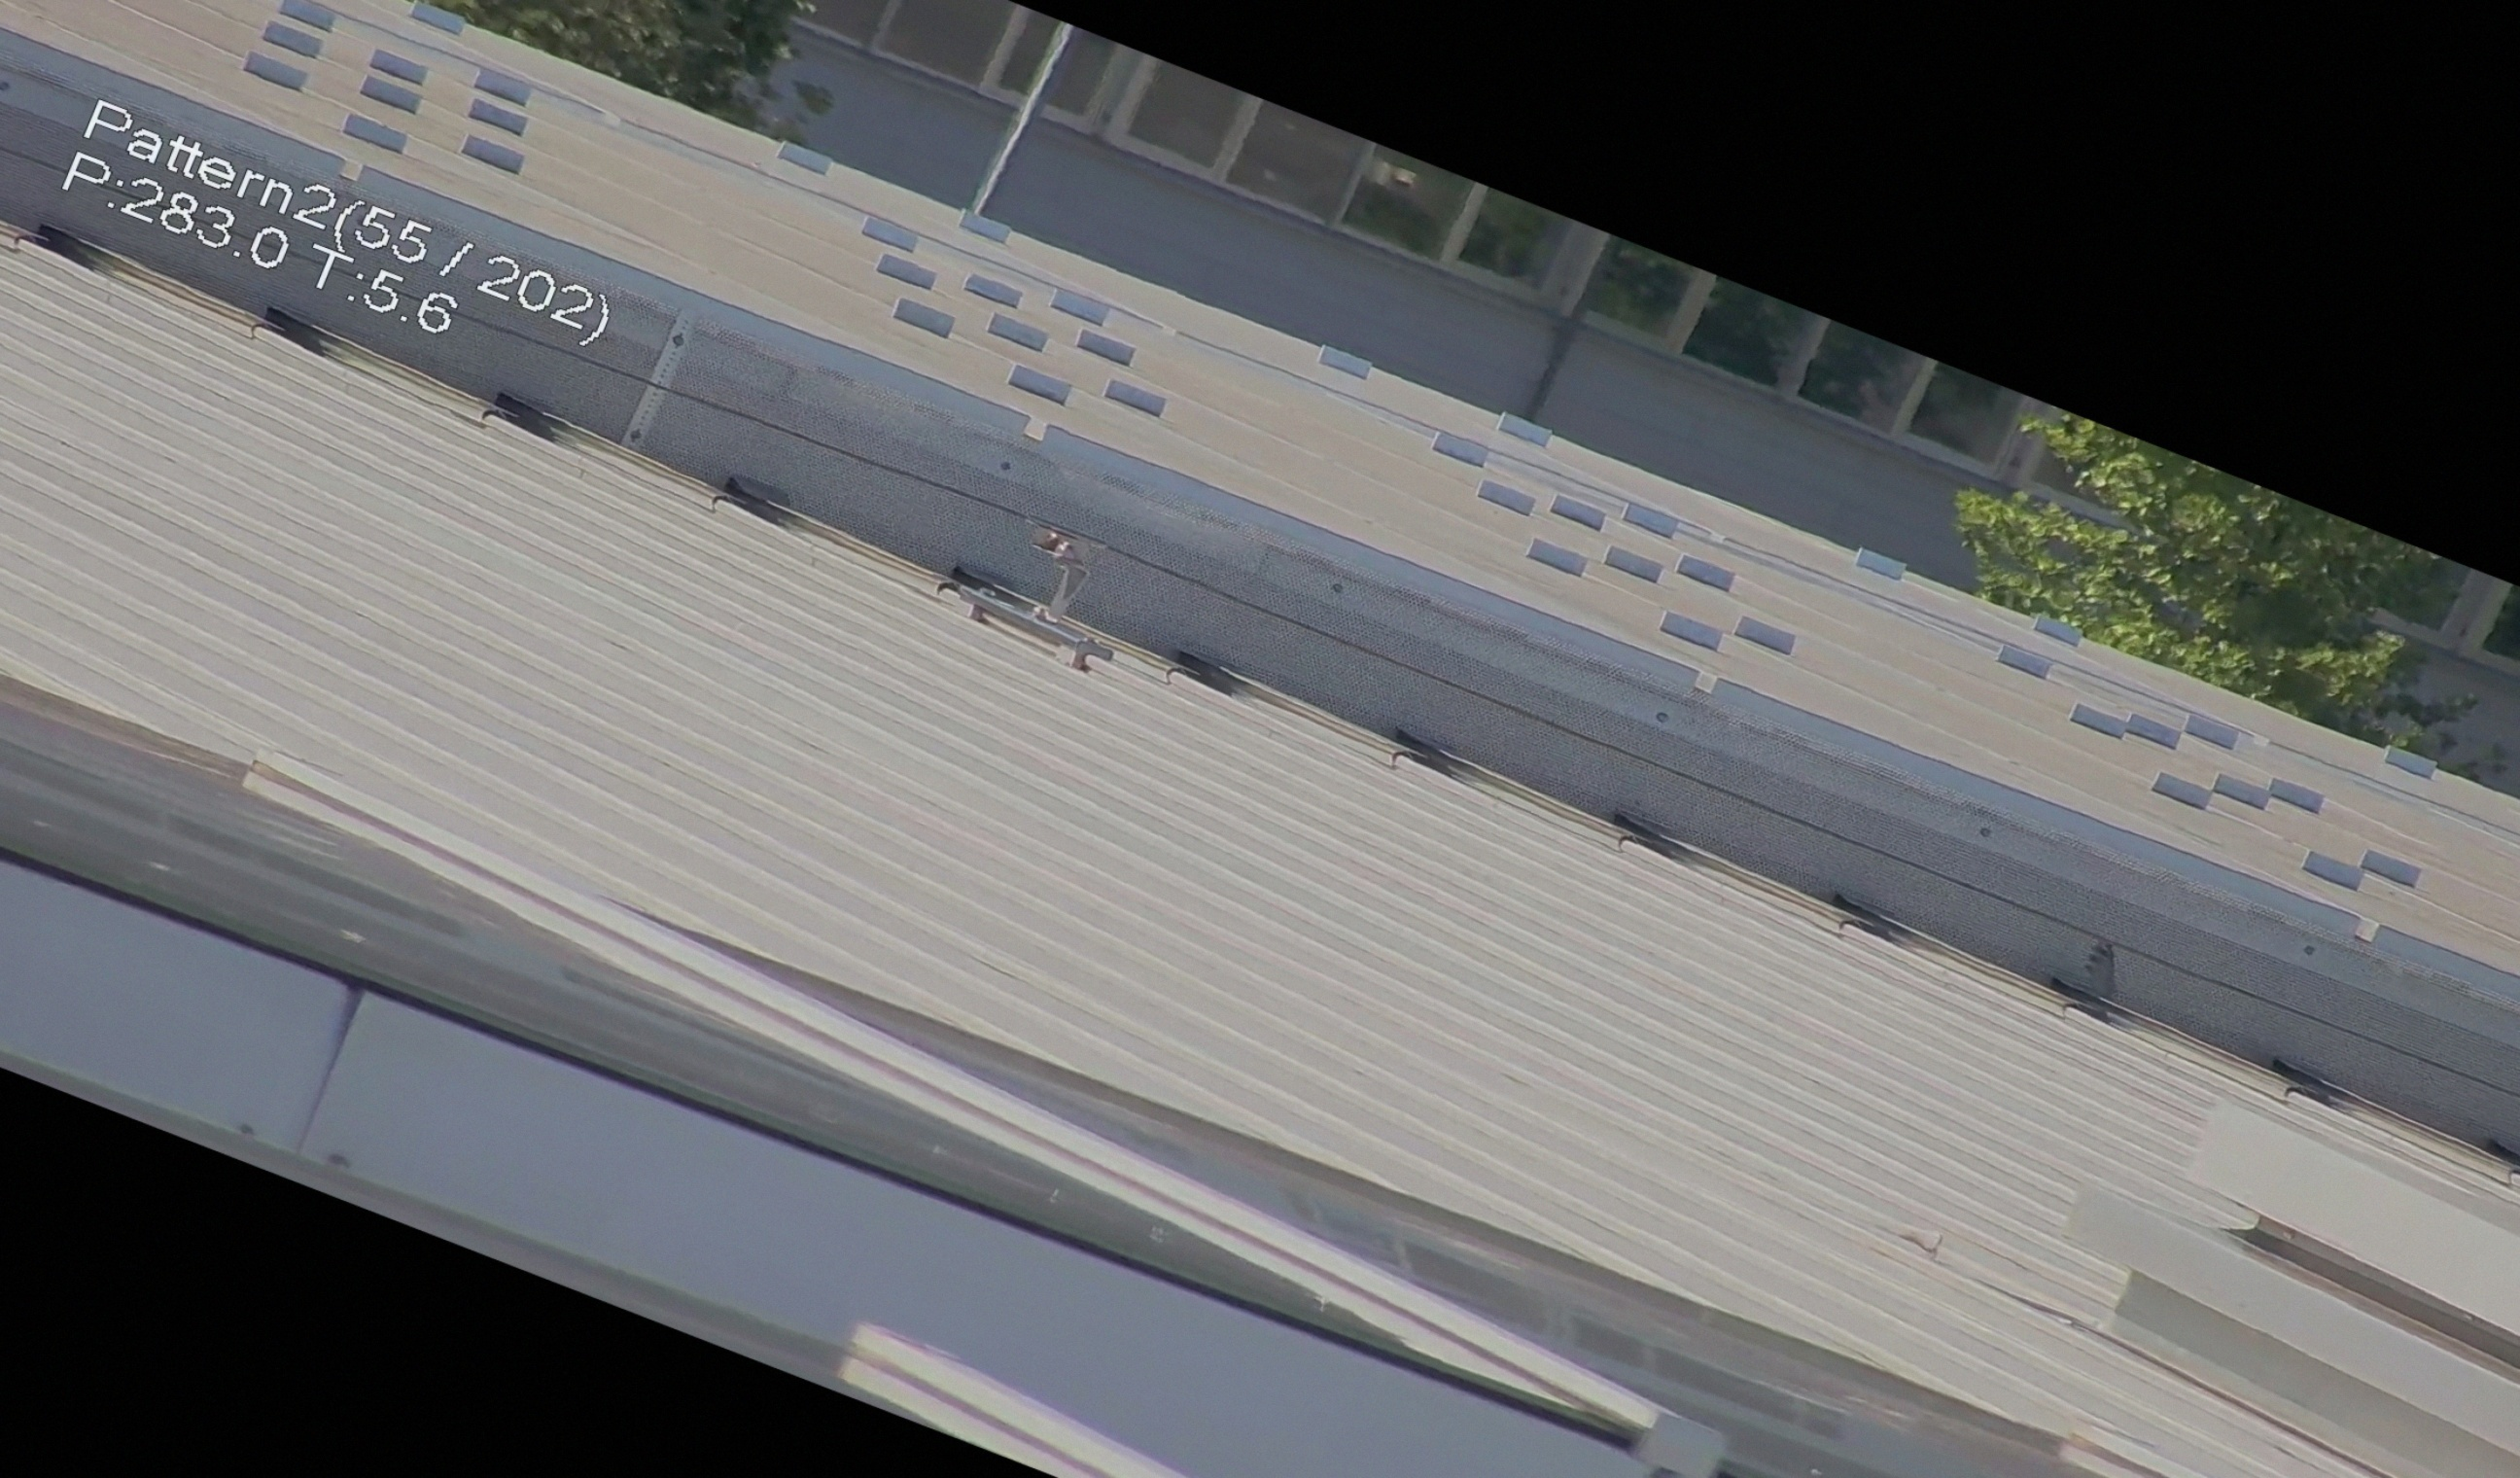Other: (2050, 911, 2177, 1038)
